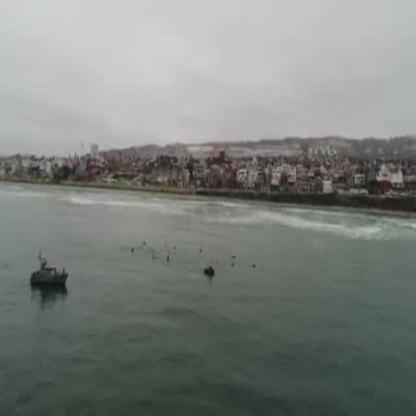Boat: (30, 250, 76, 297)
